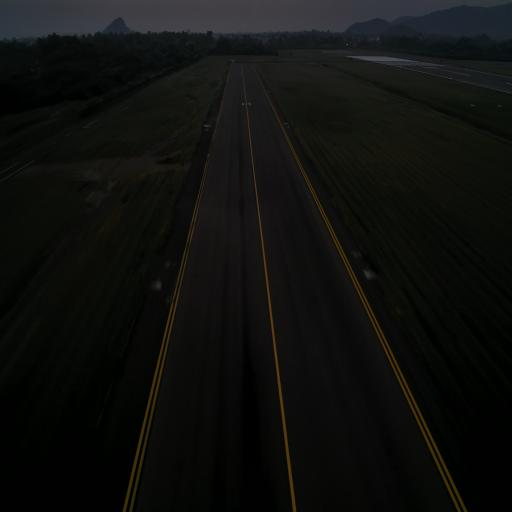on: (364, 265, 372, 277), (155, 276, 160, 290)
